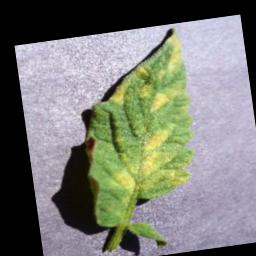Leaf_Mold: (103, 124, 198, 207), (128, 28, 187, 86), (146, 82, 190, 115), (106, 74, 134, 107), (137, 84, 151, 99)
